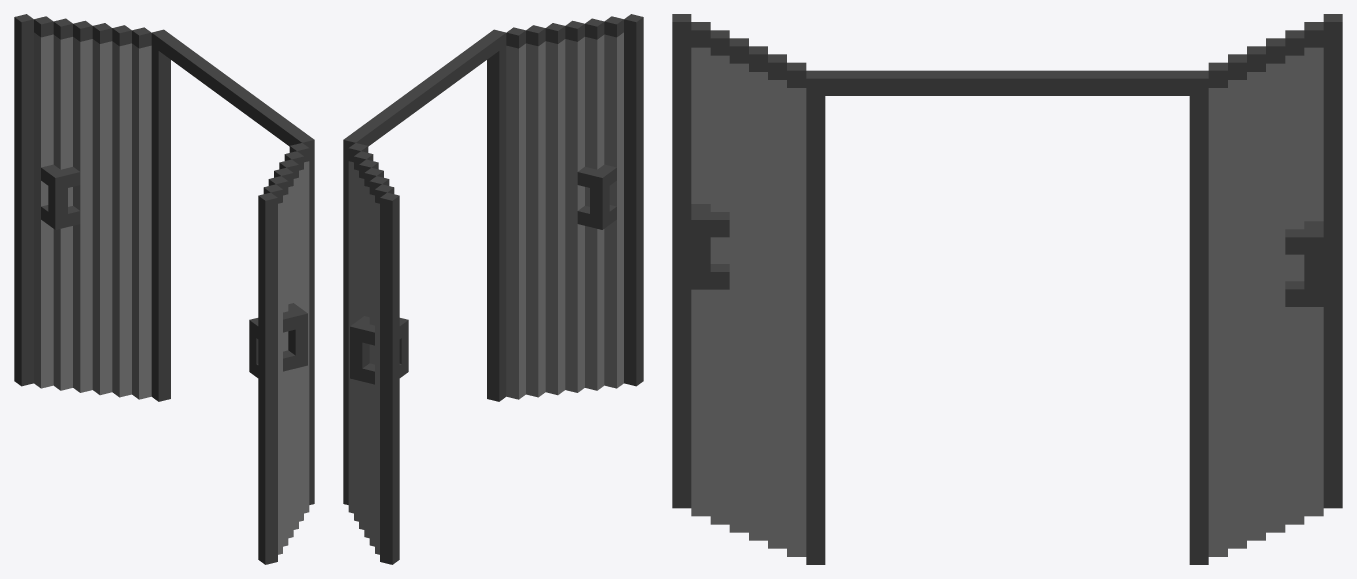
The model's file is Door_for_wall_open_Ver2.2.obj.
3 renders of one model, left to right at view 1: azimuth 30°, elevation 25°; view 2: azimuth 150°, elevation 25°; view 3: azimuth 270°, elevation 25°, orthographic. The views are drawn at different scales.
Size of the model in its own units: 0.8 by 2.8 by 3.5.
1 material, 1 textured.
